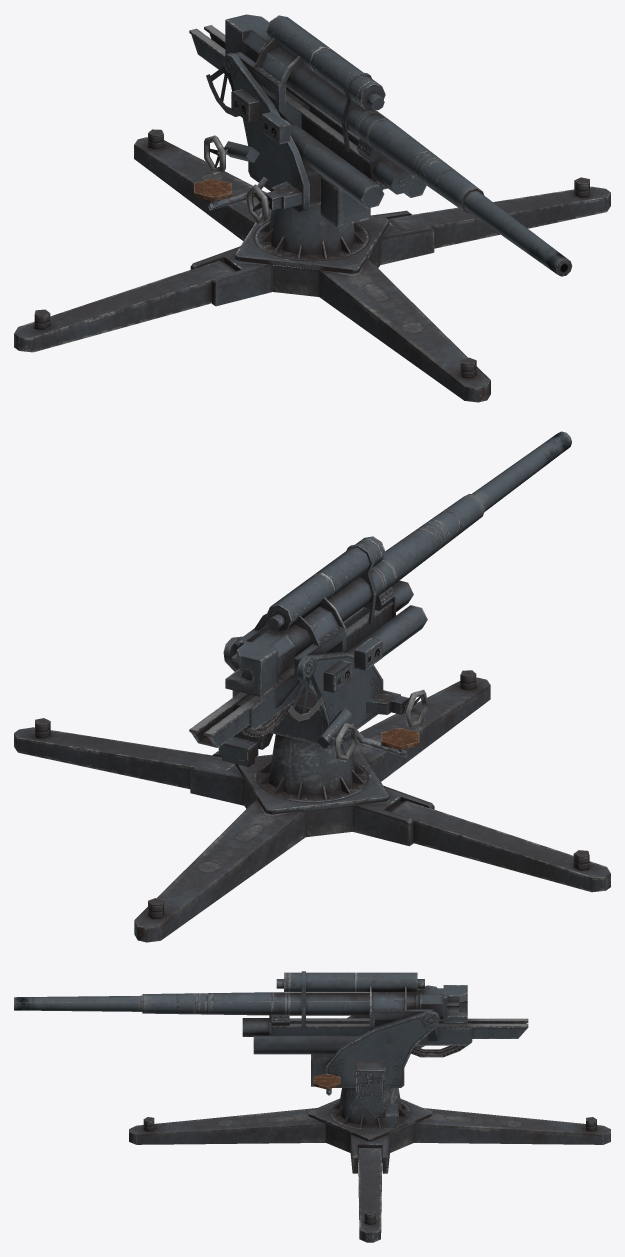
Rendered from turret_1.glb.
3 renders of one model, top to bottom at view 1: azimuth 30°, elevation 25°; view 2: azimuth 150°, elevation 25°; view 3: azimuth 270°, elevation 25°, orthographic. The views are drawn at different scales.
Parts seen in each view (by area): view 1: flak_18_lambert4_0, Barrel, Turret; view 2: flak_18_lambert4_0, Barrel, Turret; view 3: Barrel, flak_18_lambert4_0, Turret.
Boxes of the visible parts, box(x1,y1,x2,y2) form: flak_18_lambert4_0: box(14, 129, 610, 402); Barrel: box(189, 14, 572, 276); Turret: box(194, 52, 387, 227); flak_18_lambert4_0: box(14, 670, 610, 942); Barrel: box(189, 431, 571, 747); Turret: box(223, 636, 428, 761); Barrel: box(14, 971, 528, 1057); flak_18_lambert4_0: box(129, 1088, 610, 1242); Turret: box(311, 985, 439, 1117).
Size of the model in its own units: 4.4 by 1.69 by 5.43.
1 material, 1 textured.
